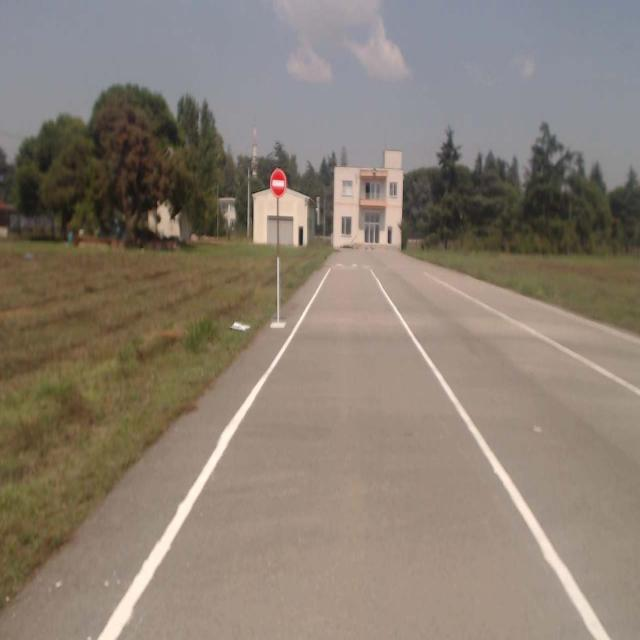girisyok: (270, 170, 286, 197)
